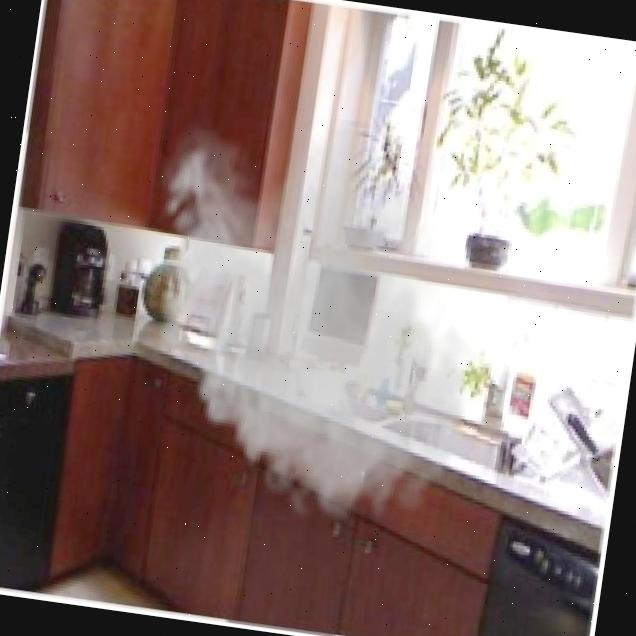smoke: (113, 95, 511, 548)
